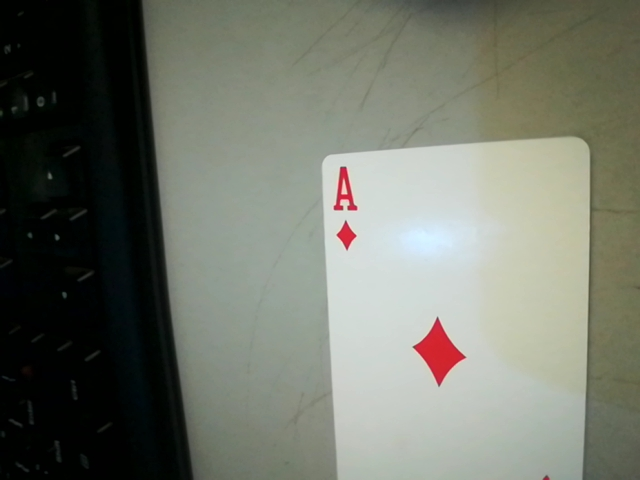fk a: (316, 161, 367, 256)
